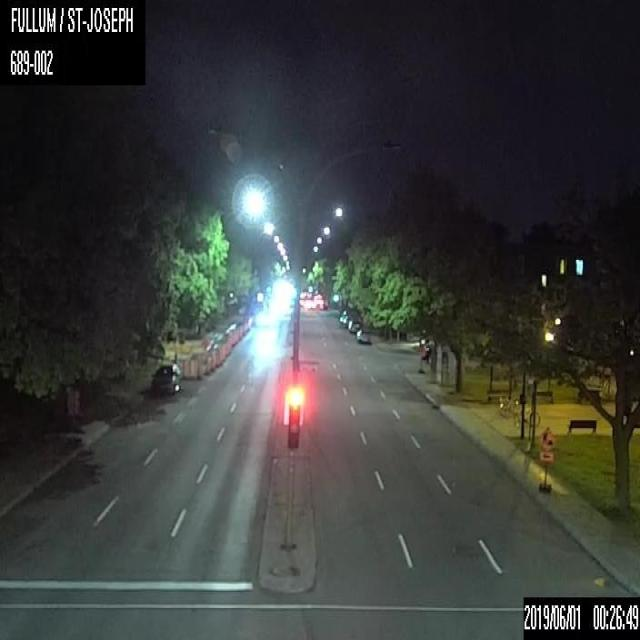construction: (536, 423, 556, 492), (195, 358, 202, 379), (187, 359, 194, 379), (203, 354, 210, 373), (181, 359, 186, 379), (209, 350, 214, 369), (202, 337, 208, 348)
vehicle: (148, 361, 183, 396), (355, 327, 372, 344)
